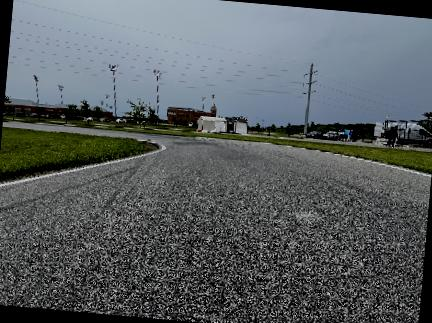Grass: (147, 131, 431, 173), (0, 128, 151, 181)
Lane: (0, 124, 430, 322)
